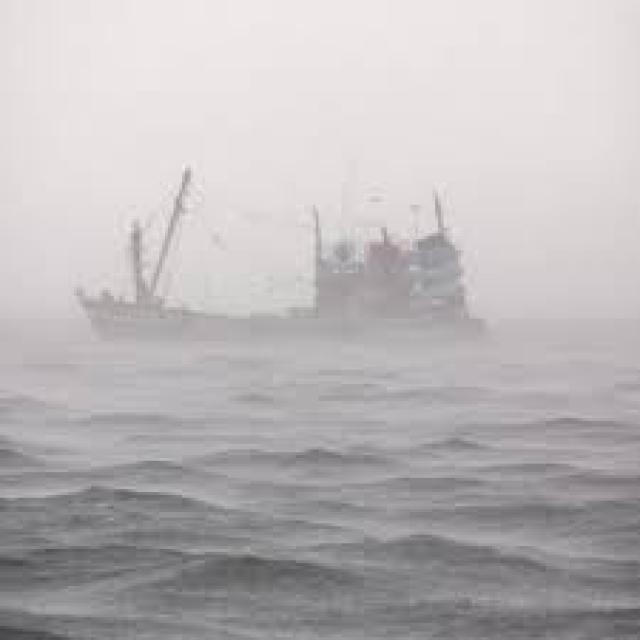fishing boat: (83, 160, 478, 345)
